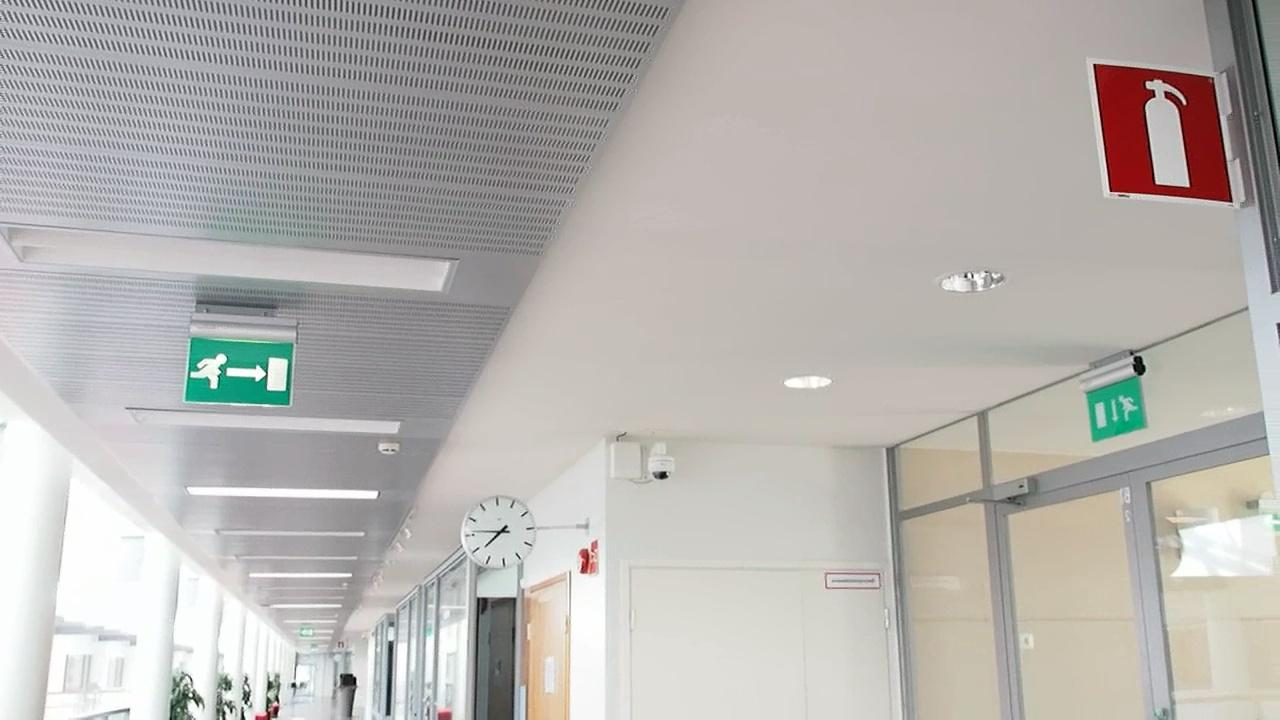clock: (455, 499, 537, 574)
exit: (179, 339, 291, 412), (1088, 372, 1148, 441)
fireextinguisher: (1102, 64, 1228, 201)
